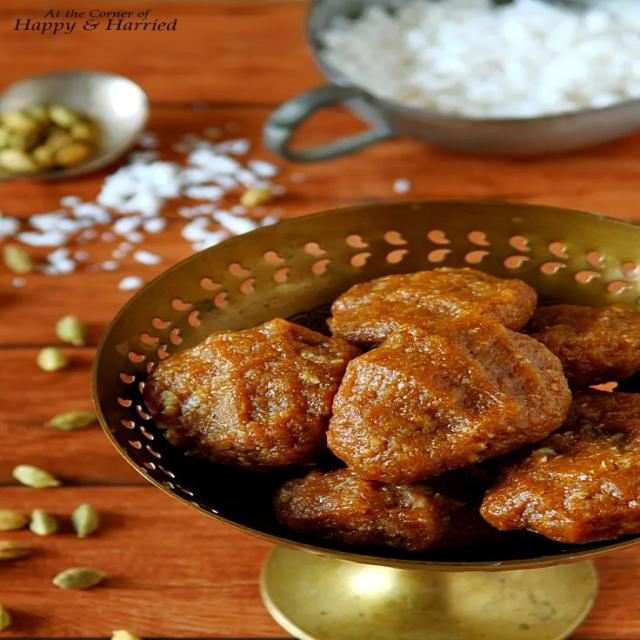pidi kolukattai: (135, 199, 640, 550)
